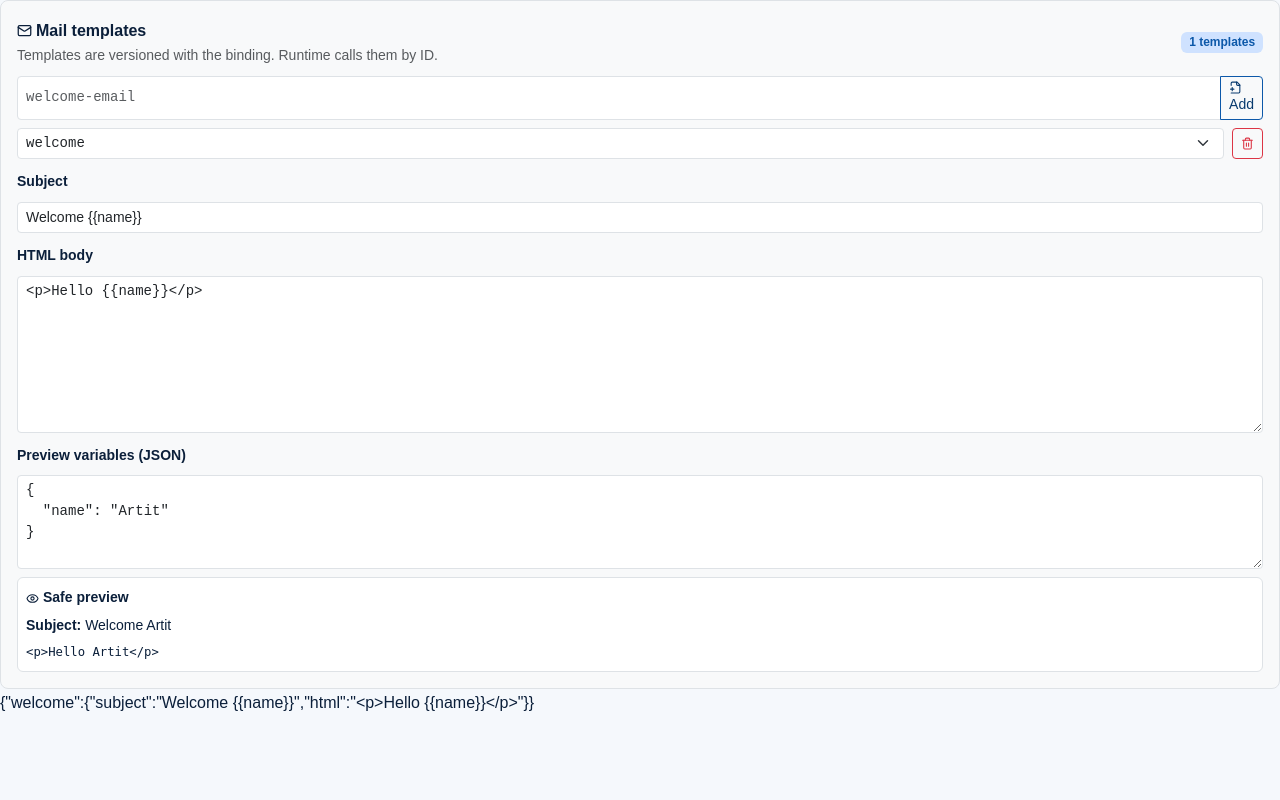
MailTemplateEditor › rejects unsafe IDs and ignores malformed stored templates
Step 1. Type "../bad" into the field named "New mail template ID" → (619, 98), box [17, 76, 1221, 120]
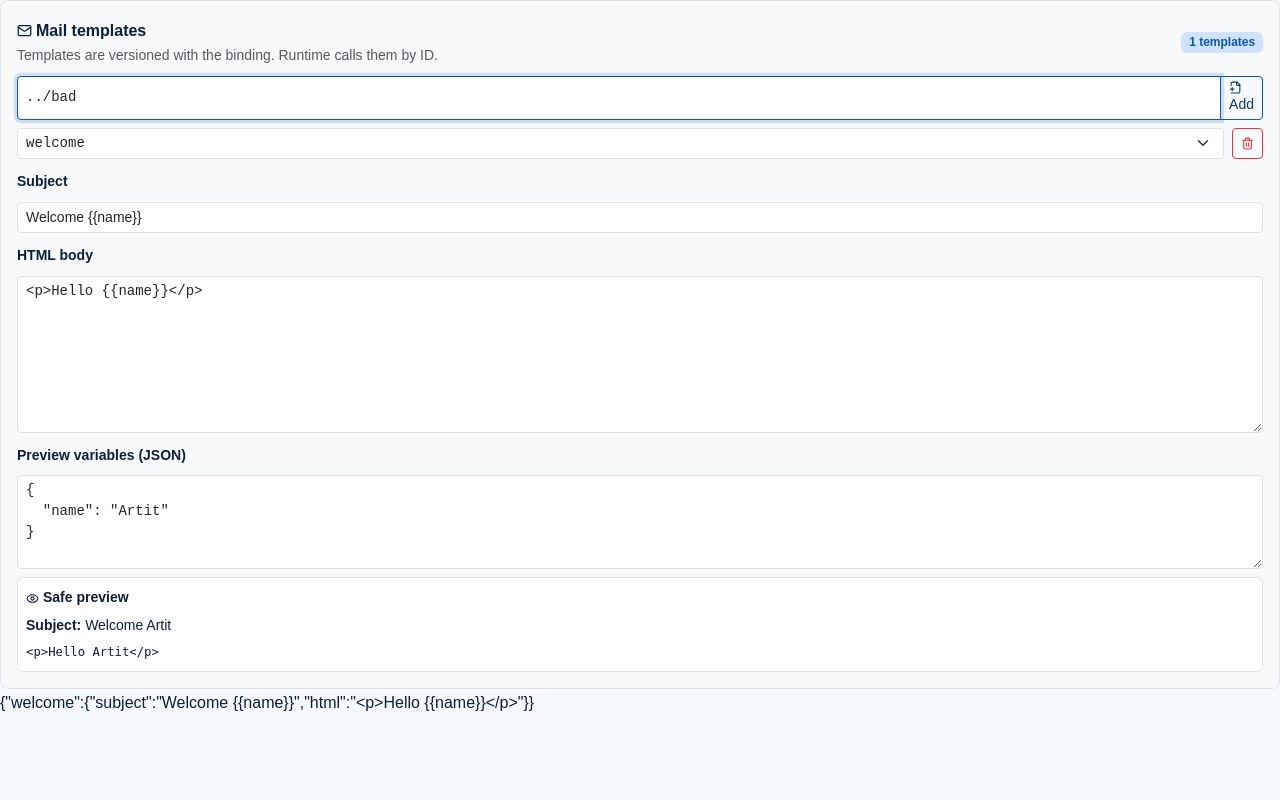
Step 2. Click the button "Add" → (1242, 98), box [1220, 76, 1263, 120]
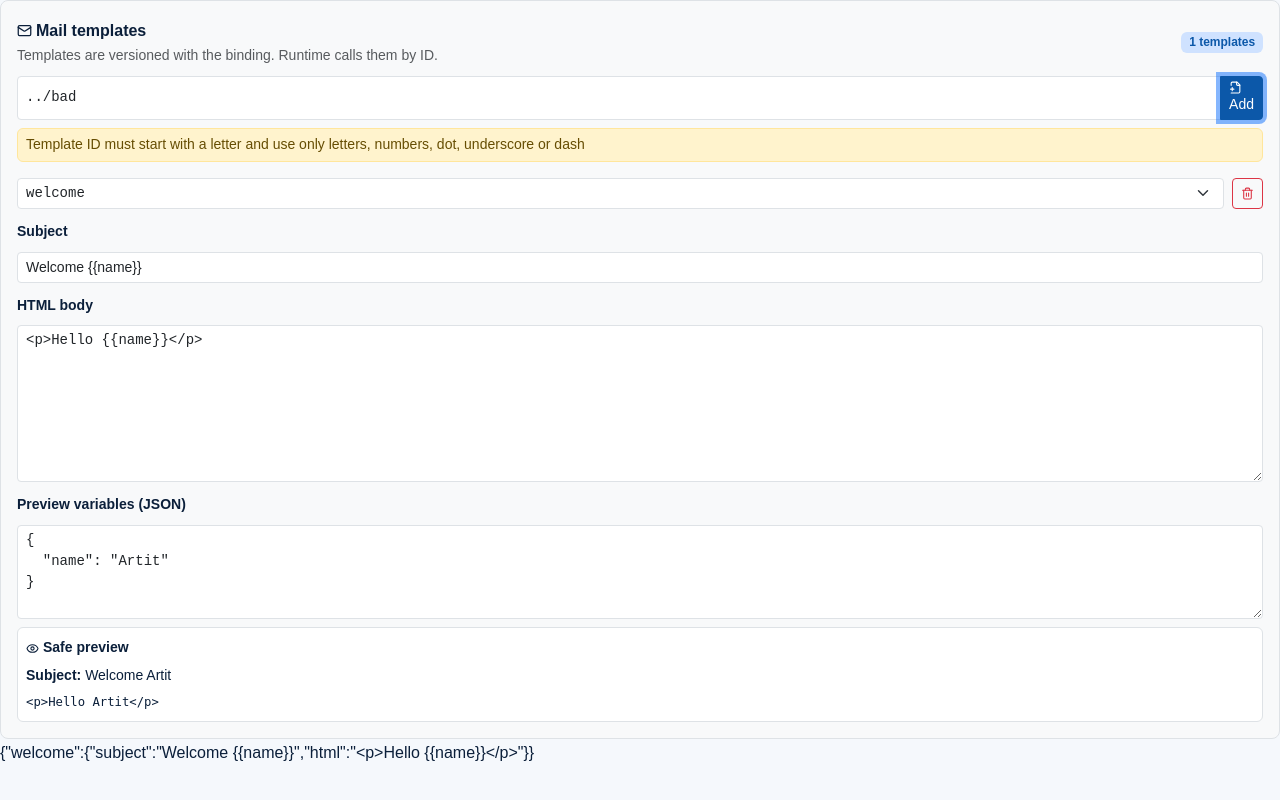
Result: the message shows "Template ID must start with a letter" at [26, 136, 585, 152]
